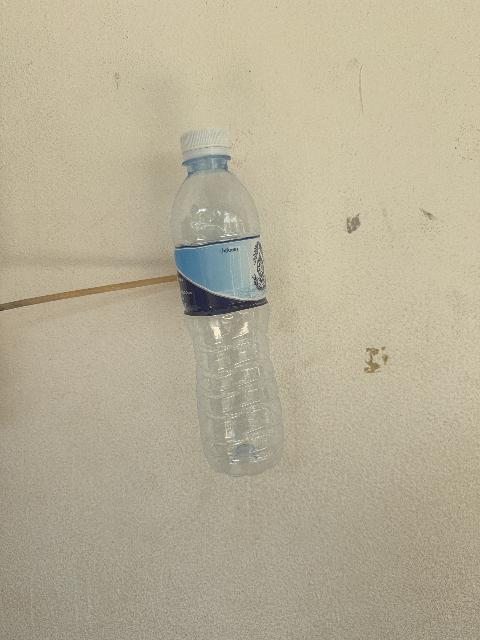bottle: (171, 129, 283, 475)
